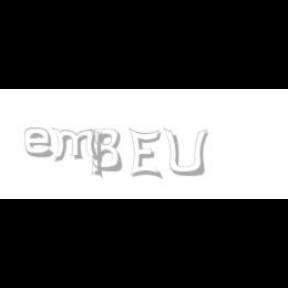8: (92, 128, 122, 172)
E: (128, 128, 162, 180)
U: (162, 128, 208, 178)
e: (24, 128, 57, 158)
l: (91, 128, 107, 180)
m: (50, 128, 102, 162)
